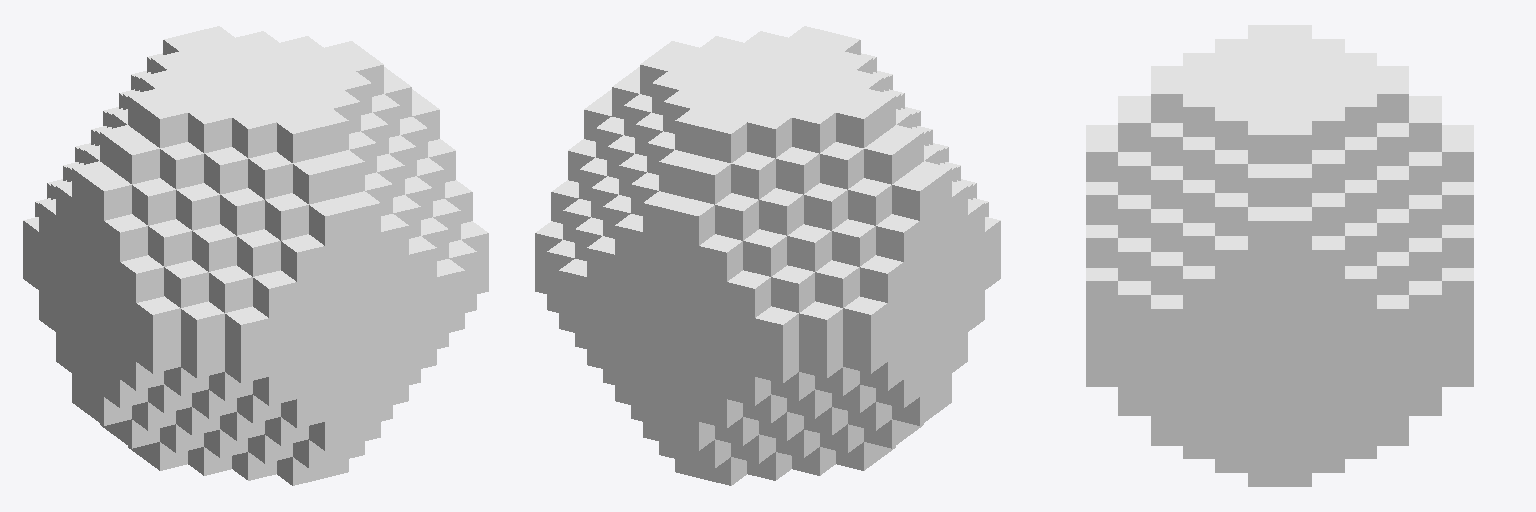
Rendered from Snowball.obj.
The picture shows the model from 3 angles: view 1: azimuth 30°, elevation 25°; view 2: azimuth 150°, elevation 25°; view 3: azimuth 270°, elevation 25°; orthographic projection.
Visible parts, largest first — view 1: object 1; view 2: object 1; view 3: object 1.
Boxes of the visible parts, x1=… form: object 1: x1=23, y1=26, x2=488, y2=485; object 1: x1=535, y1=26, x2=1000, y2=485; object 1: x1=1086, y1=25, x2=1473, y2=486.
Bounding box in the file's own units: 1.2 × 1.2 × 1.2.